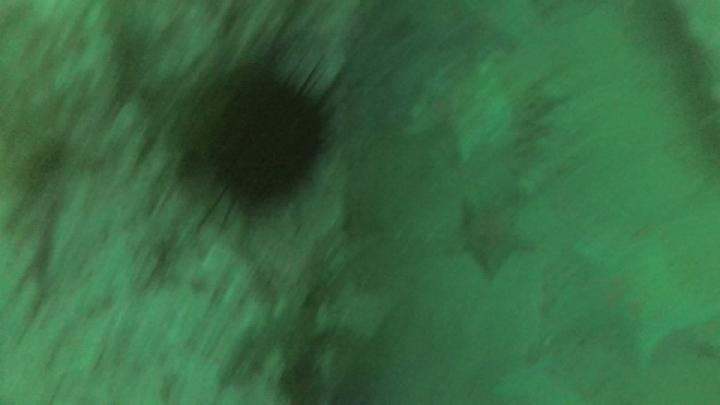echinus: (180, 52, 340, 222)
holothurian: (508, 78, 580, 201)
starfish: (561, 231, 717, 371), (401, 62, 519, 165), (456, 194, 539, 279), (487, 353, 590, 405)
